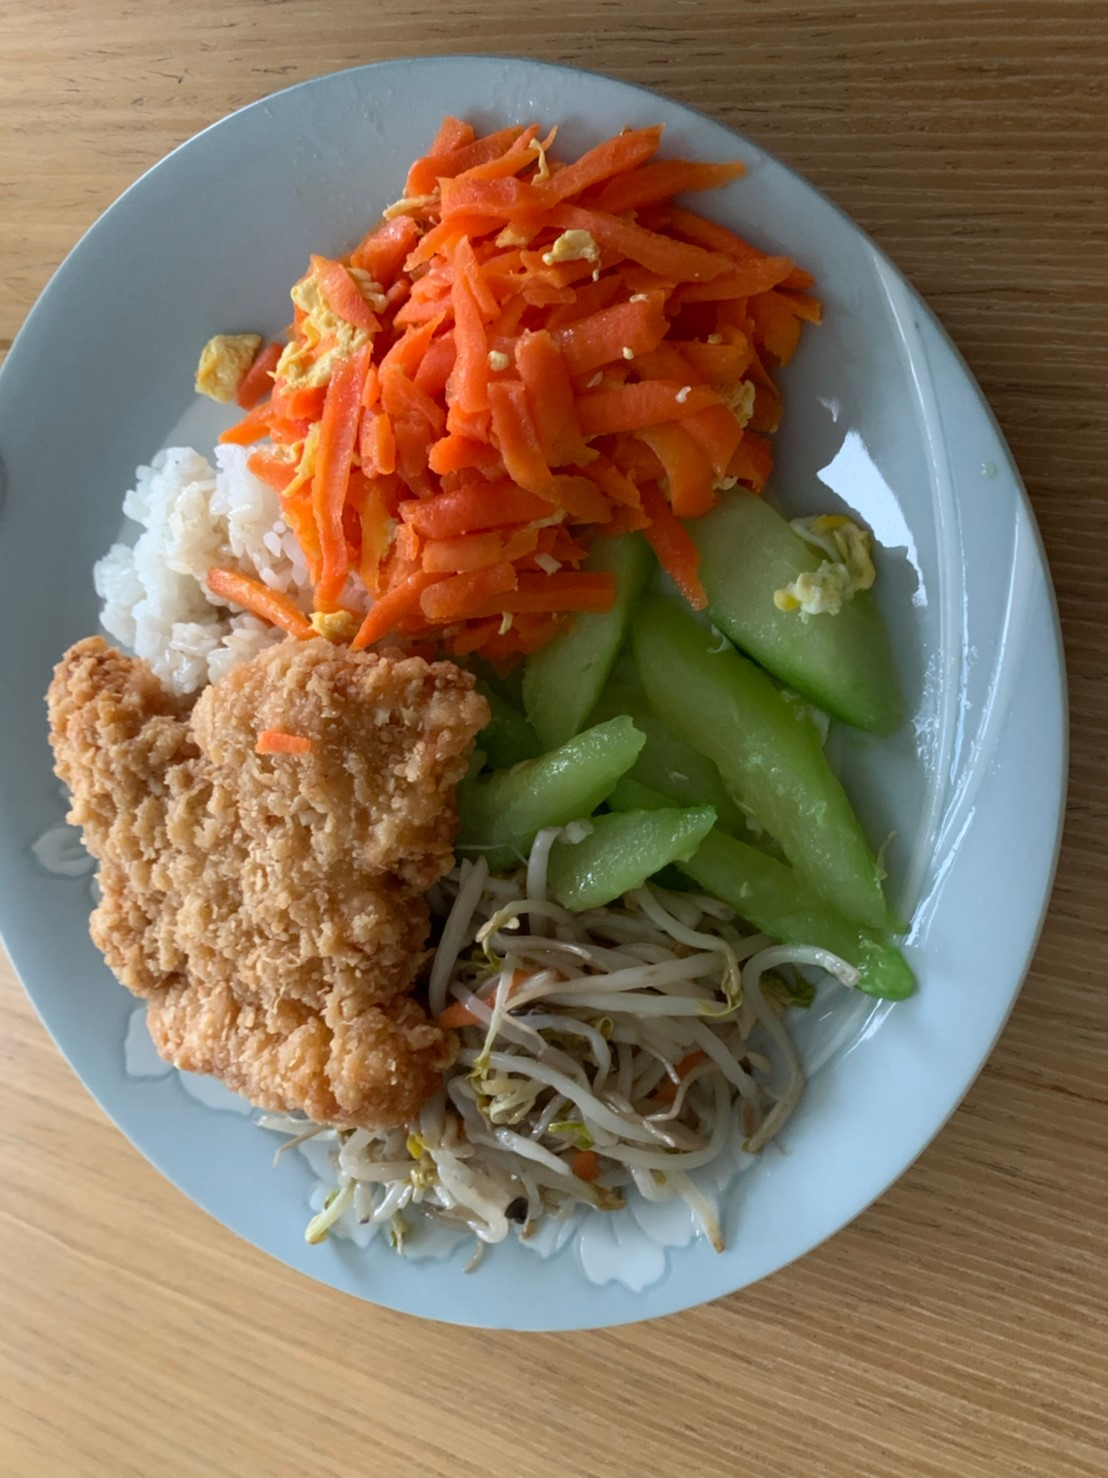carrot_eggs: (254, 148, 754, 640)
fried_chicken: (47, 639, 482, 1108)
mung_bean_sprouts: (312, 884, 803, 1252)
rice: (97, 443, 321, 692)
